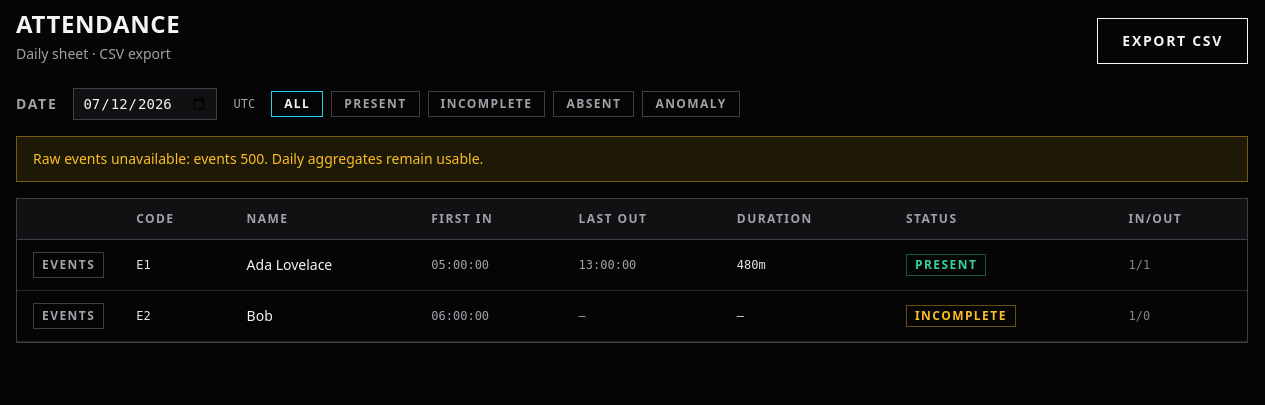
Scenario: Attendance explainability › raw event failure keeps daily rows and does not claim no events
Expected: the text "Ada Lovelace" is shown, [231,240,415,290]
Expected: the message with test id "events-load-error" shows "Raw events unavailable", [33,149,194,168]
What coordinates should you click on to do the following:
click the button with test id "expand-1"
I would click on:
 (69, 265)
Its box is [33,252,104,278].
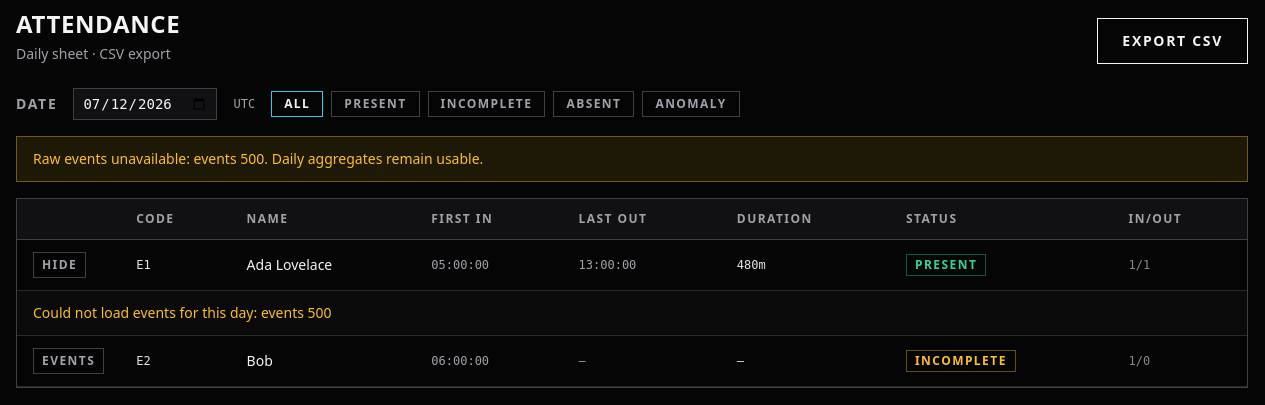
Expected: the text "Ada Lovelace" is shown, [231,240,415,290]
Result: the text with test id "detail-error-1" shows "Could not load events" at [33,303,257,322]
